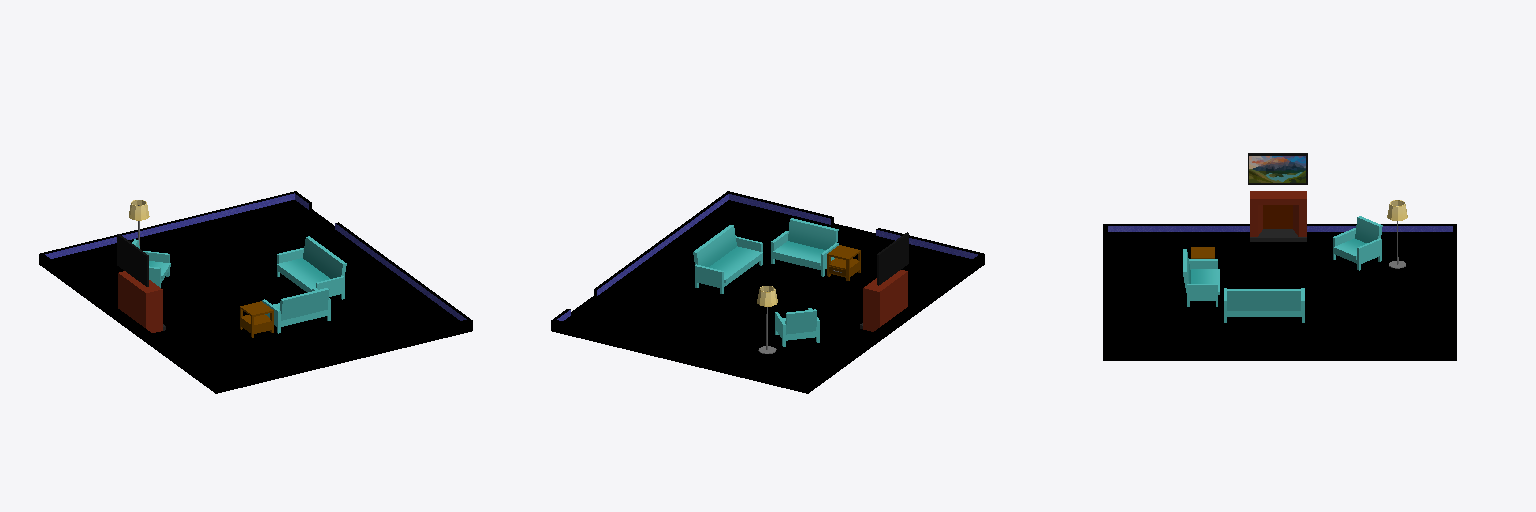
3 views of the same model, side by side, from view 1: azimuth 30°, elevation 25°; view 2: azimuth 150°, elevation 25°; view 3: azimuth 270°, elevation 25° (orthographic).
Visible parts, largest first — view 1: LivingRoomFloor, LivingRoomWalls, BigSofa, Fireplace, MediumSofa, TV, TableLivingroom, SmallSofa; view 2: LivingRoomFloor, LivingRoomWalls, BigSofa, MediumSofa, Fireplace, SmallSofa, TV, TableLivingroom, Lampshade1; view 3: LivingRoomFloor, LivingRoomWalls, Fireplace, BigSofa, TV, SmallSofa, MediumSofa.
Boxes of the visible parts, box(x1,y1,x2,y2) form: LivingRoomFloor: box(39, 200, 472, 393); LivingRoomWalls: box(39, 191, 472, 388); BigSofa: box(277, 236, 346, 299); Fireplace: box(118, 271, 165, 332); MediumSofa: box(262, 287, 330, 333); TV: box(117, 234, 148, 286); TableLivingroom: box(240, 301, 273, 337); SmallSofa: box(132, 239, 170, 287); LivingRoomFloor: box(551, 200, 984, 393); LivingRoomWalls: box(551, 191, 984, 388); BigSofa: box(693, 225, 762, 293); MediumSofa: box(771, 218, 838, 276); Fireplace: box(860, 270, 907, 331); SmallSofa: box(775, 308, 819, 346); TV: box(877, 232, 908, 285); TableLivingroom: box(827, 245, 860, 280); Lampshade1: box(757, 286, 777, 353); LivingRoomFloor: box(1103, 232, 1456, 360); LivingRoomWalls: box(1103, 224, 1456, 355); Fireplace: box(1250, 191, 1306, 241); BigSofa: box(1224, 288, 1304, 322); TV: box(1248, 153, 1307, 184); SmallSofa: box(1333, 216, 1382, 270); MediumSofa: box(1183, 249, 1219, 306).
Size of the model in its own units: 1063 by 331 by 1268.
Materials: 10 (8 with a texture image).